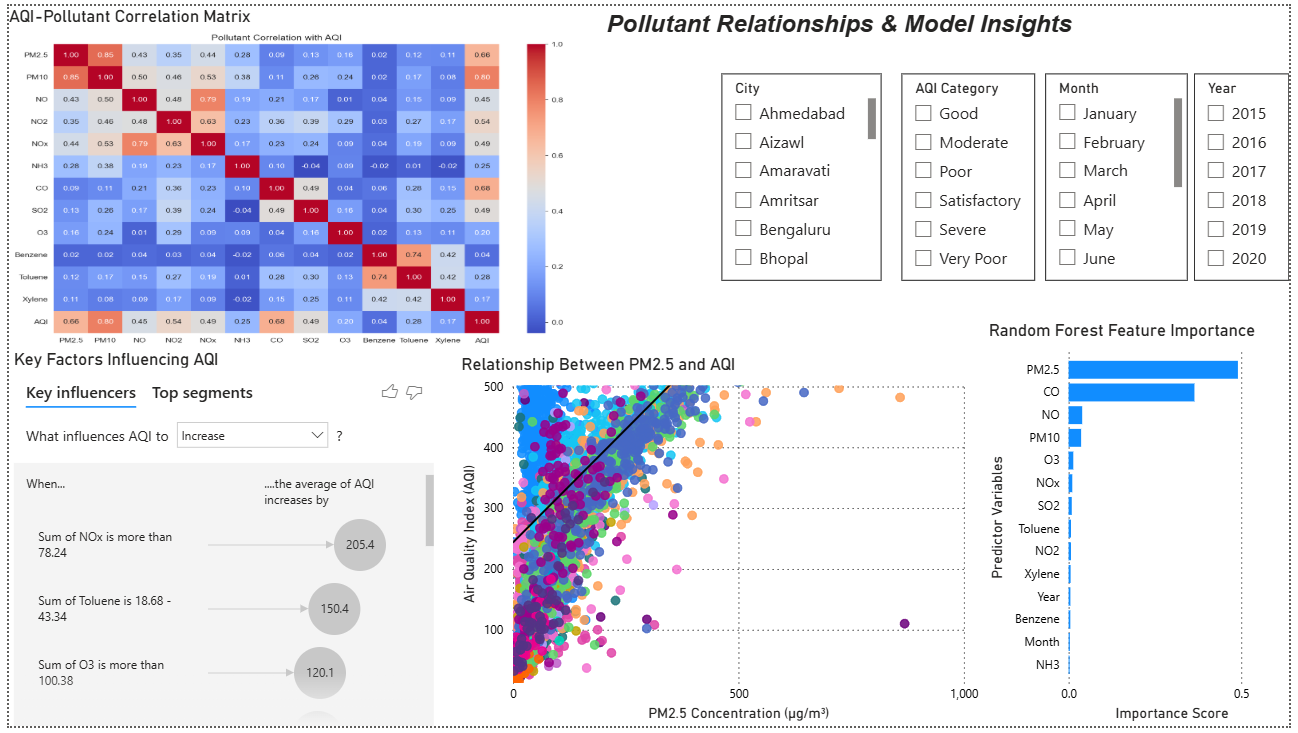

This screenshot's page, from the dashboard's own definition file:
{"tool":"powerbi","page":{"name":"Page 3","canvas":[1280,720],"ordinal":2},"visuals":[{"type":"slicer","fields":{"Values":["city_day.City"]},"box":[712.5,67.5,160,207.5],"z":0},{"type":"slicer","fields":{"Values":["city_day.AQI_Bucket"]},"box":[892.5,67.5,133.8,207.5],"z":1000},{"type":"slicer","fields":{"Values":["city_day.Date.Variation.Date Hierarchy.Month"]},"box":[1036.2,67.5,142.5,207.5],"z":2000},{"type":"slicer","fields":{"Values":["city_day.Date.Variation.Date Hierarchy.Year"]},"box":[1185,67.5,95,207.5],"z":3000},{"type":"image","title":"AQI-Pollutant Correlation Matrix","box":[0,0,560,342.5],"z":4000},{"type":"scatterChart","title":"Relationship Between PM2.5 and AQI","fields":{"X":["city_day.PM2.5"],"Y":["city_day.AQI"],"Series":["city_day.City"]},"box":[447.5,347.5,527.5,372.5],"z":5000},{"type":"clusteredBarChart","title":"Random Forest Feature Importance","fields":{"Category":["importance_df.Features"],"Y":["Sum(importance_df.Importance)"]},"box":[975,313.8,305,406.2],"z":6000},{"type":"keyDriversVisual","title":"Key Factors Influencing AQI","fields":{"Target":["city_day.AQI"],"ExplainBy":["Sum(city_day.PM2.5)","city_day.PM10","Sum(city_day.NO)","Sum(city_day.NO2)","Sum(city_day.NOx)","city_day.NH3","Sum(city_day.CO)","Sum(city_day.SO2)","Sum(city_day.O3)","Sum(city_day.Benzene)","Sum(city_day.Toluene)","Sum(city_day.Xylene)"]},"box":[0,342.5,430,377.5],"z":7000},{"type":"textbox","box":[592.5,0,487.5,52.5],"z":8000}]}

Visuals, with their boxes in screenshot pixels (x1, y1, x2, y2), scaled from the page's 1280x720 canvas onto the 1298x733 screenshot:
slicer - city_day.City: left=723, top=69, right=885, bottom=280
slicer - city_day.AQI_Bucket: left=905, top=69, right=1041, bottom=280
slicer - city_day.Date.Variation.Date Hierarchy.Month: left=1051, top=69, right=1195, bottom=280
slicer - city_day.Date.Variation.Date Hierarchy.Year: left=1202, top=69, right=1297, bottom=280
"AQI-Pollutant Correlation Matrix" image: left=0, top=0, right=568, bottom=349
"Relationship Between PM2.5 and AQI" scatterChart: left=454, top=354, right=989, bottom=732
"Random Forest Feature Importance" clusteredBarChart: left=989, top=319, right=1297, bottom=732
"Key Factors Influencing AQI" keyDriversVisual: left=0, top=349, right=436, bottom=732
textbox: left=601, top=0, right=1095, bottom=53
